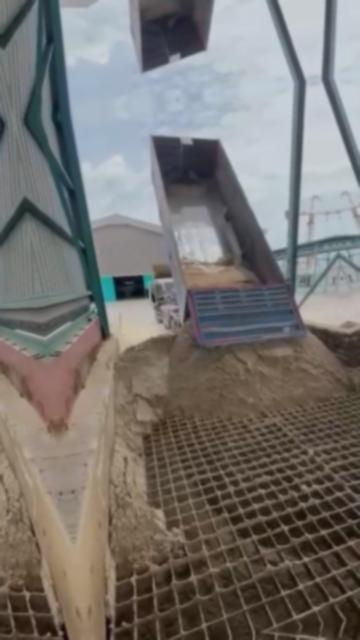sand: (111, 324, 350, 575), (183, 260, 260, 289)
